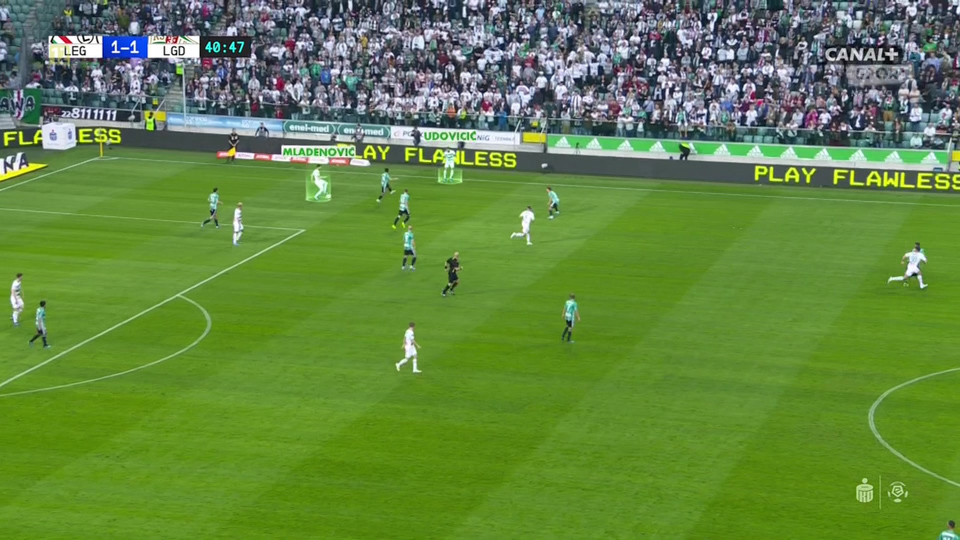Adidas: (586, 137, 602, 150), (747, 146, 763, 156)
